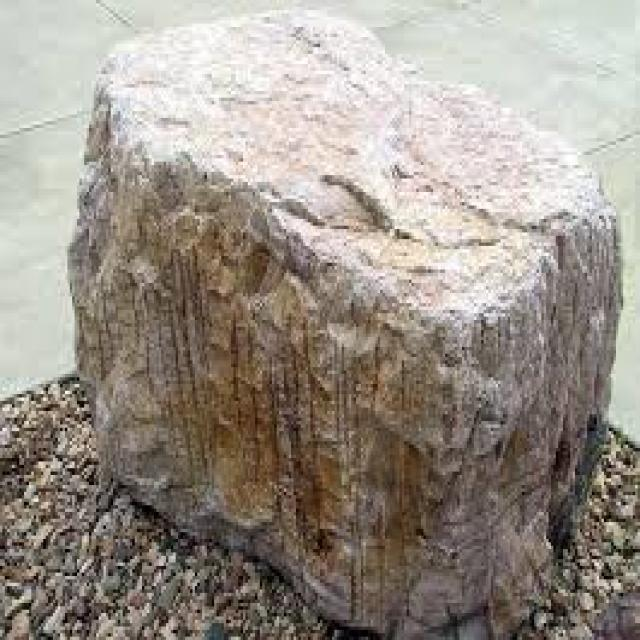Metamorphic: (82, 17, 626, 623)
